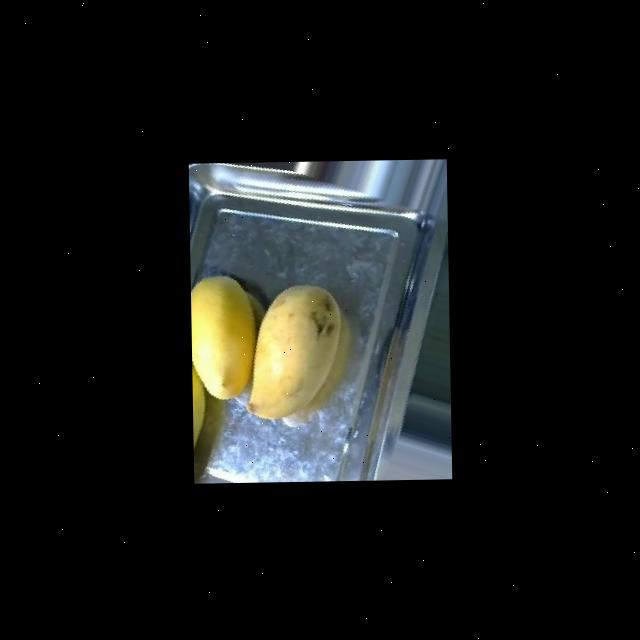Mango: (242, 282, 342, 418), (190, 273, 256, 399), (191, 318, 207, 481)
